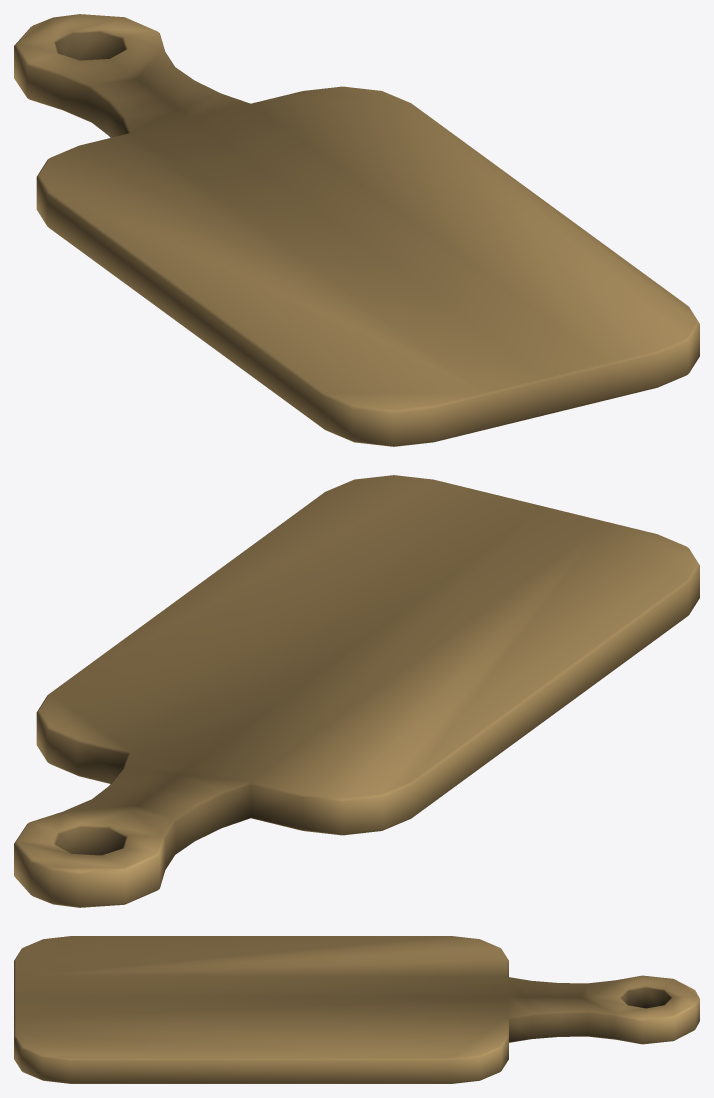
Rendered from CutBoard-02.fbx.
3 renders of one model, top to bottom at view 1: azimuth 30°, elevation 25°; view 2: azimuth 150°, elevation 25°; view 3: azimuth 270°, elevation 25°, orthographic. The views are drawn at different scales.
Visible parts, largest first — view 1: CutBoard-02; view 2: CutBoard-02; view 3: CutBoard-02.
Boxes of the visible parts, left/top/right/bottom form: CutBoard-02: left=14, top=14, right=699, bottom=446; CutBoard-02: left=14, top=475, right=699, bottom=907; CutBoard-02: left=14, top=936, right=699, bottom=1083.
Bounding box in the file's own units: 666 × 64.72 × 1560.
